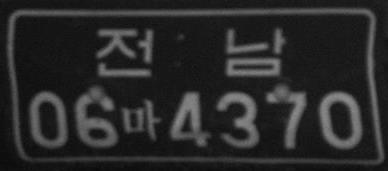0: (316, 89, 365, 151), (27, 90, 68, 149)
3: (217, 91, 260, 149)
4: (168, 90, 211, 147)
6: (73, 90, 120, 149)
7: (264, 90, 309, 150)
마: (121, 98, 162, 141)
전남_D: (96, 26, 286, 78)
